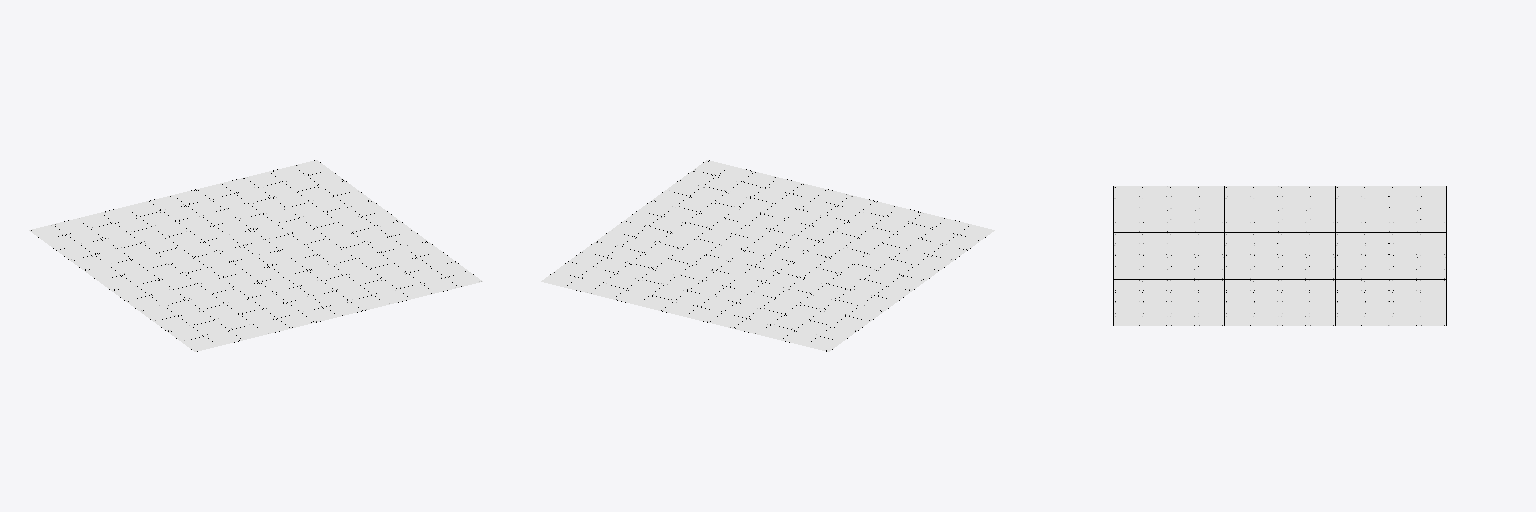
The picture shows the model from 3 angles: view 1: azimuth 30°, elevation 25°; view 2: azimuth 150°, elevation 25°; view 3: azimuth 270°, elevation 25°; orthographic projection.
Parts seen in each view (by area): view 1: Plane, Plane.004, Plane.022_Plane.023, Plane.018_Plane.019, Plane.013_Plane.014, Plane.012_Plane.013, Plane.034_Plane.035, Plane.029_Plane.030, Plane.027_Plane.028, Plane.026_Plane.027, Plane.003_Plane.005, Plane.011_Plane.012 (+24 smaller); view 2: Plane.001, Plane.002, Plane.023_Plane.024, Plane.017_Plane.018, Plane.016_Plane.017, Plane.015_Plane.016, Plane.033_Plane.034, Plane.032_Plane.033, Plane.031_Plane.032, Plane.028_Plane.029, Plane.006_Plane.007, Plane.009_Plane.010 (+24 smaller); view 3: Plane.023_Plane.024, Plane.022_Plane.023, Plane.017_Plane.018, Plane.012_Plane.013, Plane.033_Plane.034, Plane.028_Plane.029, Plane.027_Plane.028, Plane.026_Plane.027, Plane.016_Plane.017, Plane.013_Plane.014, Plane.032_Plane.033, Plane.029_Plane.030 (+24 smaller).
Part boxes in pixels (bbox=[...]): Plane: bbox=[209, 256, 282, 287]; Plane.004: bbox=[229, 224, 302, 255]; Plane.022_Plane.023: bbox=[277, 212, 351, 243]; Plane.018_Plane.019: bbox=[297, 180, 371, 211]; Plane.013_Plane.014: bbox=[332, 253, 406, 284]; Plane.012_Plane.013: bbox=[360, 273, 434, 304]; Plane.034_Plane.035: bbox=[140, 300, 214, 331]; Plane.029_Plane.030: bbox=[105, 227, 179, 258]; Plane.027_Plane.028: bbox=[77, 207, 151, 238]; Plane.026_Plane.027: bbox=[160, 268, 234, 299]; Plane.003_Plane.005: bbox=[173, 183, 247, 214]; Plane.011_Plane.012: bbox=[264, 297, 338, 328]; Plane.001: bbox=[741, 256, 814, 287]; Plane.002: bbox=[721, 224, 794, 255]; Plane.023_Plane.024: bbox=[672, 212, 746, 243]; Plane.017_Plane.018: bbox=[589, 273, 663, 304]; Plane.016_Plane.017: bbox=[617, 253, 691, 284]; Plane.015_Plane.016: bbox=[652, 180, 726, 211]; Plane.033_Plane.034: bbox=[872, 207, 946, 238]; Plane.032_Plane.033: bbox=[844, 227, 918, 258]; Plane.031_Plane.032: bbox=[809, 300, 883, 331]; Plane.028_Plane.029: bbox=[789, 268, 863, 299]; Plane.006_Plane.007: bbox=[685, 297, 759, 328]; Plane.009_Plane.010: bbox=[776, 183, 850, 214]; Plane.023_Plane.024: bbox=[1224, 279, 1279, 302]; Plane.022_Plane.023: bbox=[1280, 279, 1335, 302]; Plane.017_Plane.018: bbox=[1391, 279, 1446, 302]; Plane.012_Plane.013: bbox=[1113, 279, 1168, 302]; Plane.033_Plane.034: bbox=[1113, 209, 1168, 232]; Plane.028_Plane.029: bbox=[1280, 209, 1335, 232]; Plane.027_Plane.028: bbox=[1391, 209, 1446, 232]; Plane.026_Plane.027: bbox=[1224, 209, 1279, 232]; Plane.016_Plane.017: bbox=[1336, 279, 1390, 302]; Plane.013_Plane.014: bbox=[1169, 279, 1223, 302]; Plane.032_Plane.033: bbox=[1169, 209, 1223, 232]; Plane.029_Plane.030: bbox=[1336, 209, 1390, 232].
Size of the model in its own units: 12 by 0 by 12.
Materials: 1 (1 with a texture image).